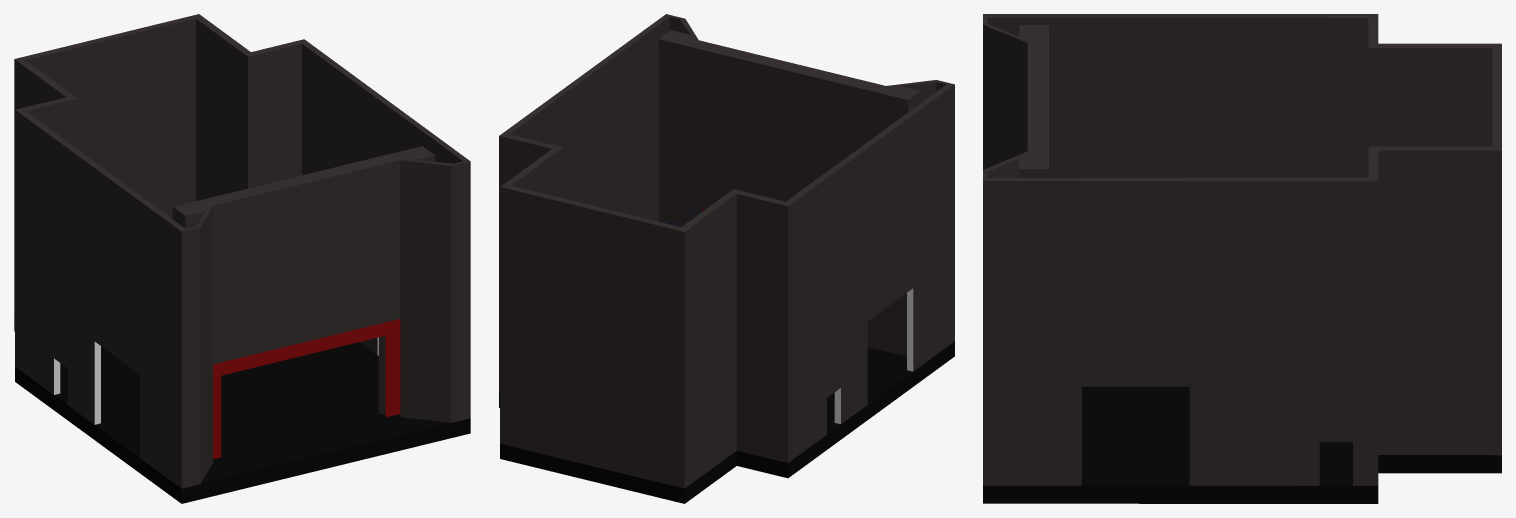
File: stage0_fbx.fbx
3 renders of one model, left to right at view 1: azimuth 30°, elevation 25°; view 2: azimuth 150°, elevation 25°; view 3: azimuth 270°, elevation 25°, orthographic. The views are drawn at different scales.
Parts seen in each view (by area): view 1: Выдавливание, Выдавливание_2, Шапка_2_2, Выдавливание_1, Шапка_2, Выдавливание_5, Шапка_2_3, Выдавливание_3, Выдавливание_4, Куб_2_2; view 2: Выдавливание, Выдавливание_2, Выдавливание_1, Шапка_2, Шапка_2_3, Шапка_2_2, Куб_2_2; view 3: Выдавливание, Шапка_2_2, Выдавливание_1, Шапка_2, Шапка_2_3.
Boxes of the visible parts, box(x1,y1,x2,y2) form: Выдавливание: box(14, 18, 470, 488); Выдавливание_2: box(213, 160, 400, 364); Шапка_2_2: box(54, 342, 450, 483); Выдавливание_1: box(14, 316, 470, 503); Шапка_2: box(15, 14, 469, 231); Выдавливание_5: box(213, 319, 400, 377); Шапка_2_3: box(183, 150, 424, 211); Выдавливание_3: box(385, 332, 400, 417); Выдавливание_4: box(213, 376, 221, 459); Куб_2_2: box(94, 337, 378, 424); Выдавливание: box(499, 16, 954, 488); Выдавливание_2: box(702, 50, 862, 209); Выдавливание_1: box(499, 341, 954, 503); Шапка_2: box(499, 14, 954, 231); Шапка_2_3: box(669, 34, 910, 95); Шапка_2_2: box(827, 347, 912, 434); Куб_2_2: box(907, 288, 913, 371); Выдавливание: box(983, 17, 1501, 485); Шапка_2_2: box(1082, 386, 1352, 485); Выдавливание_1: box(983, 455, 1501, 503); Шапка_2: box(983, 14, 1501, 181); Шапка_2_3: box(1027, 28, 1048, 165).
Size of the model in its own units: 1803 by 1621 by 2363.
